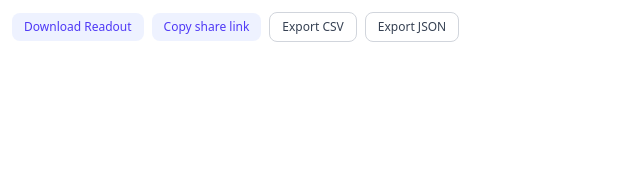
Test: ExportMenu — Copy share link › surfaces an error message when the share request fails
Click the button "Copy share link" at (206, 27), box [152,13,261,41]
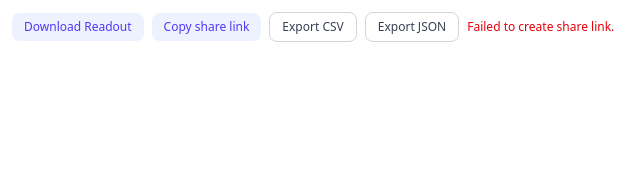
expect the text "Failed to create share link." is shown: met, box [467,19,614,35]
